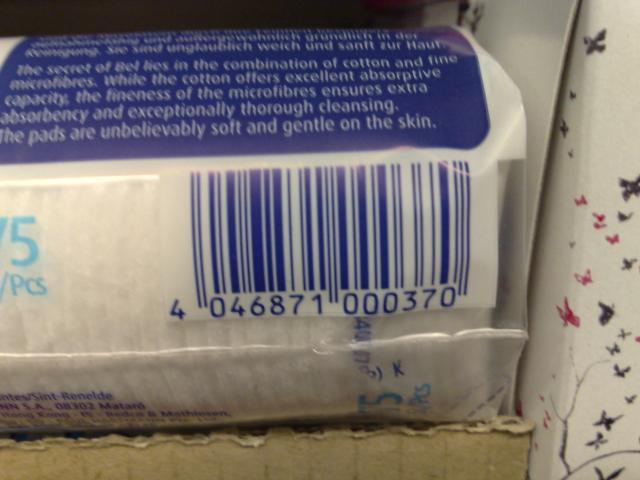Barcode: (163, 162, 491, 331)
